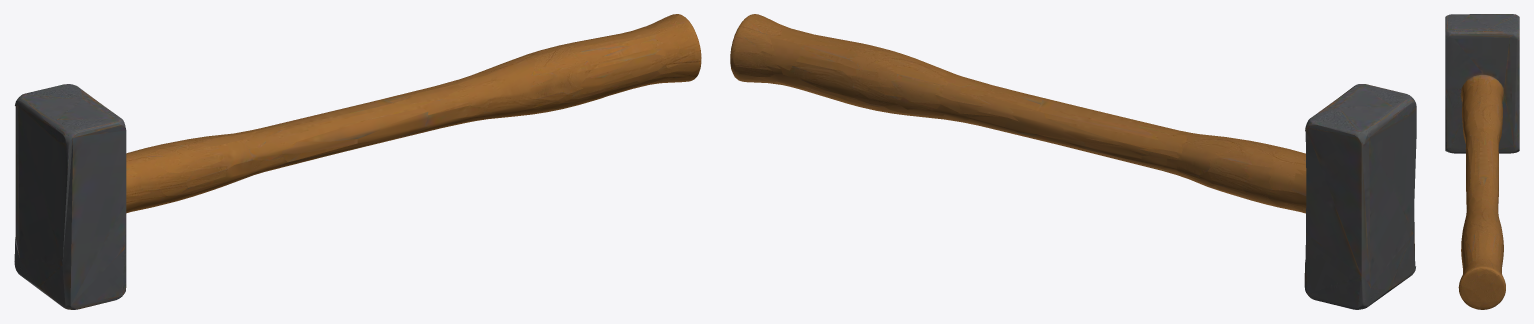
File: sledgehammer.glb
The picture shows the model from 3 angles, left to right: view 1: azimuth 30°, elevation 25°; view 2: azimuth 150°, elevation 25°; view 3: azimuth 270°, elevation 25°; orthographic projection. The views are drawn at different scales.
Bounding box in the file's own units: 1.9 × 0.5038 × 0.2774.
1 material, 1 textured.
